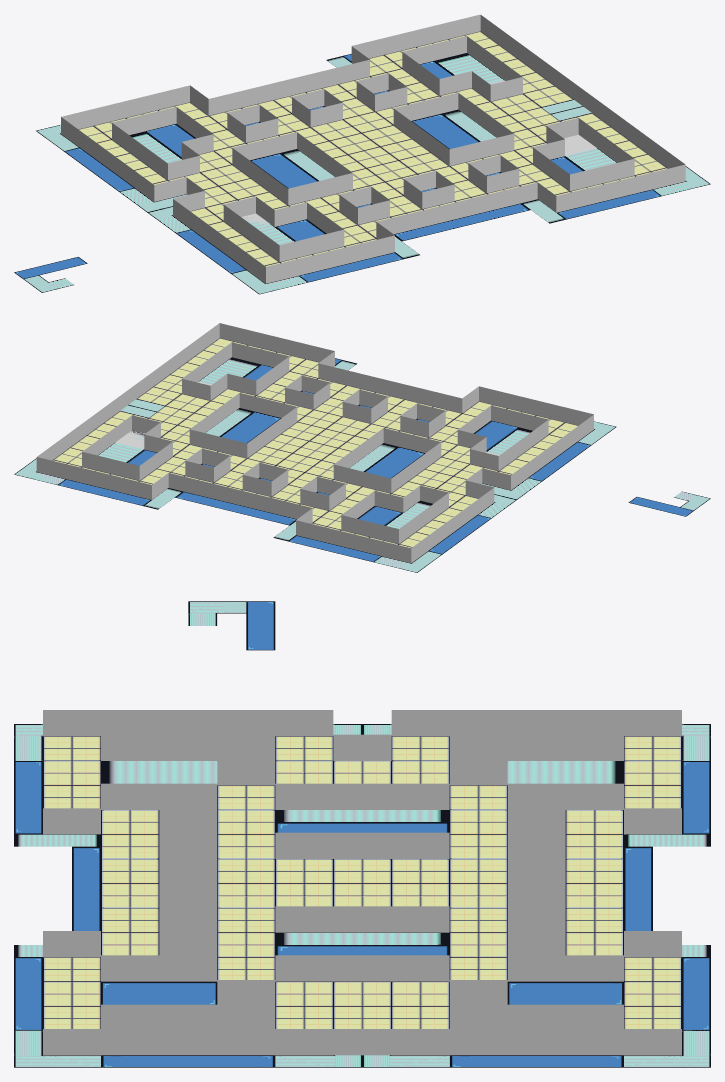
Rendered from map5.fbx.
The picture shows the model from 3 angles, top to bottom: view 1: azimuth 30°, elevation 25°; view 2: azimuth 150°, elevation 25°; view 3: azimuth 270°, elevation 25°; orthographic projection. The views are drawn at different scales.
Visible parts, largest first — view 1: Plane, Plane.057, Plane.053, Plane.056, Plane.055, Plane.046, Plane.045, Plane.054, Plane.051, Plane.050, Plane.048, Plane.052 (+25 smaller); view 2: Plane, Plane.057, Plane.055, Plane.056, Plane.045, Plane.046, Plane.054, Plane.053, Plane.049, Plane.050, Plane.051, Plane.047 (+23 smaller); view 3: Plane, Plane.057, Plane.045, Plane.046, Plane.053, Plane.054, Plane.055, Plane.056, Plane.047, Plane.048, Plane.049, Plane.050 (+28 smaller).
Part boxes in pixels (<box>): Plane: <box>78,31,667,266</box>; Plane.057: <box>61,14,685,283</box>; Plane.053: <box>223,196,344,261</box>; Plane.056: <box>533,118,634,191</box>; Plane.055: <box>402,36,522,101</box>; Plane.046: <box>393,92,514,165</box>; Plane.045: <box>232,132,352,205</box>; Plane.054: <box>112,107,213,180</box>; Plane.051: <box>468,155,519,193</box>; Plane.050: <box>356,73,407,111</box>; Plane.048: <box>227,105,278,142</box>; Plane.052: <box>403,171,454,208</box>; Plane: <box>52,338,578,547</box>; Plane.057: <box>36,323,593,563</box>; Plane.055: <box>82,415,172,480</box>; Plane.056: <box>182,342,289,400</box>; Plane.045: <box>333,428,441,493</box>; Plane.046: <box>189,393,297,458</box>; Plane.054: <box>341,485,448,543</box>; Plane.053: <box>457,405,548,470</box>; Plane.049: <box>242,462,288,496</box>; Plane.050: <box>185,448,230,482</box>; Plane.051: <box>285,375,330,409</box>; Plane.047: <box>400,403,445,437</box>; Plane: <box>43,736,681,1028</box>; Plane.057: <box>43,710,681,1055</box>; Plane.045: <box>275,783,449,858</box>; Plane.046: <box>275,906,449,981</box>; Plane.053: <box>101,734,275,809</box>; Plane.054: <box>449,734,623,809</box>; Plane.055: <box>449,955,623,1028</box>; Plane.056: <box>101,955,275,1028</box>; Plane.047: <box>159,808,217,857</box>; Plane.048: <box>507,808,565,857</box>; Plane.049: <box>507,857,565,906</box>; Plane.050: <box>507,906,565,955</box>.
Bounding box in the file's own units: 7600 × 200 × 4800.
